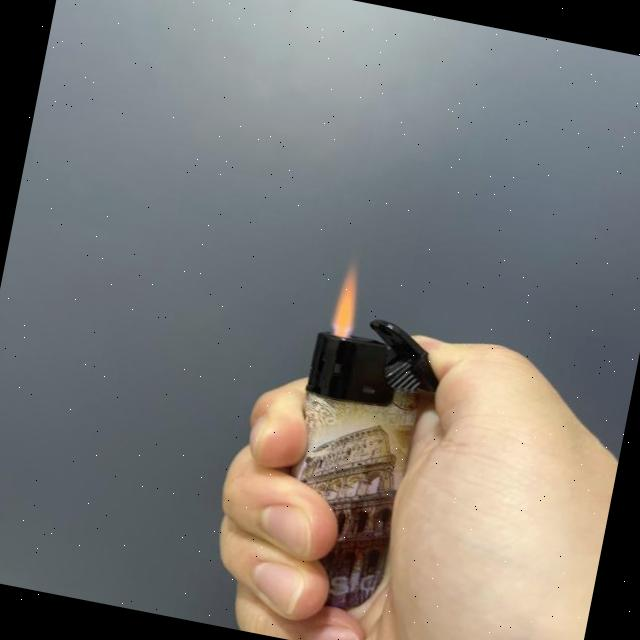fire: (328, 264, 368, 338)
